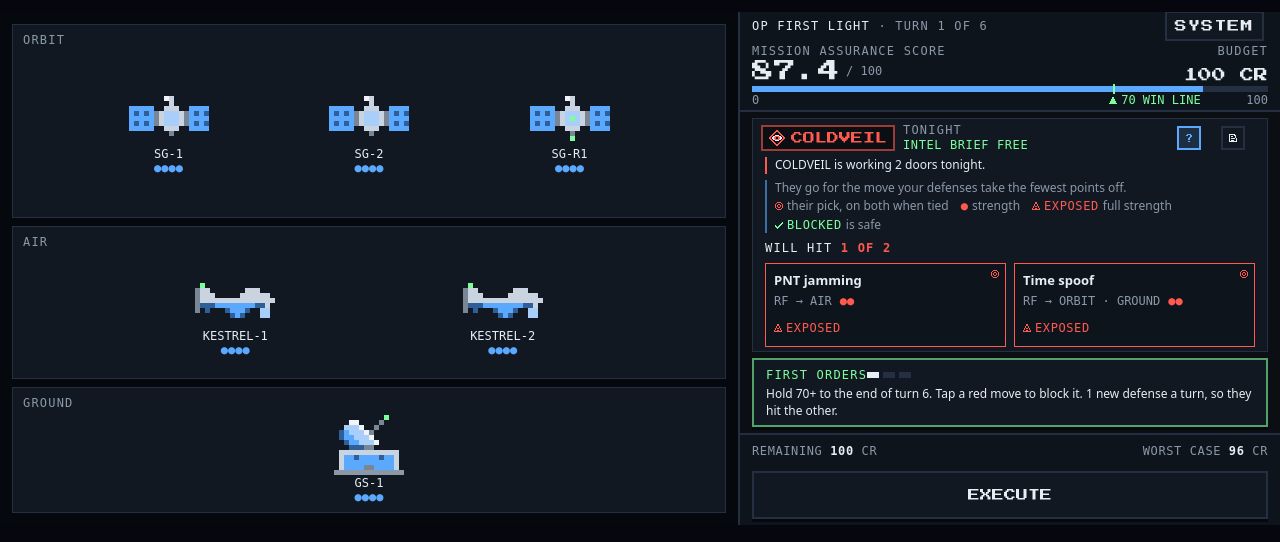
the hit card (critique row M3) › names the missing defense on the UNDEFENDED block, with its price, what it stops and where to find it
Click the button "EXECUTE" at (1010, 495), box [752,471,1268,519]
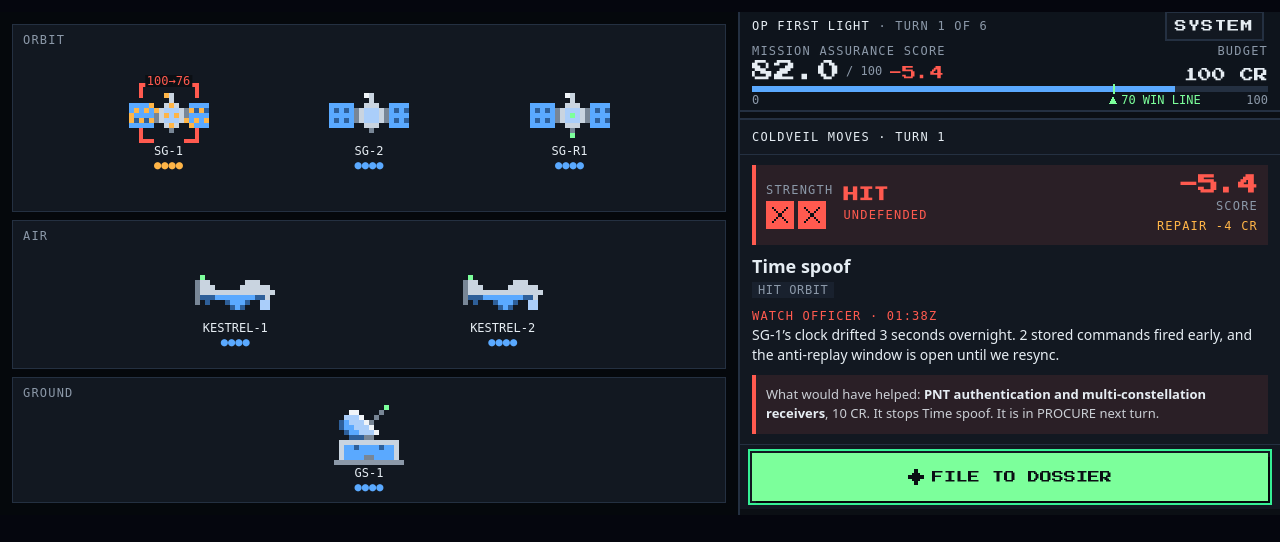
Expected: the text "UNDEFENDED" is not shown
Now the element that starts with "What would have helped:" is shown, box [752,375,1268,434]
Now the text "UNDEFENDED" is shown, box [843,208,928,222]
